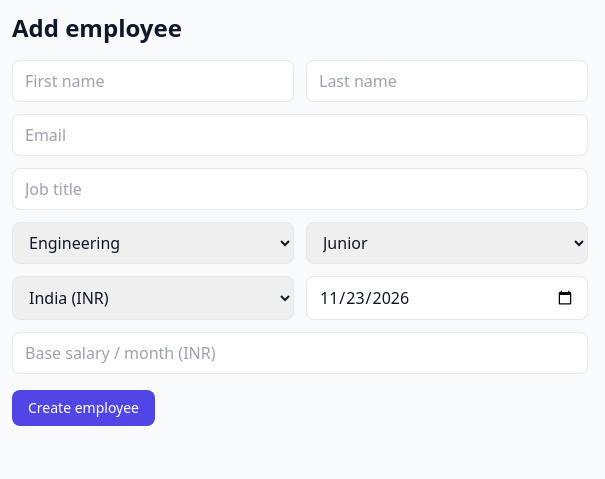
Test: AddEmployee page › requires first name, last name and job title
This screenshot has width=605, height=479.
Click the button "Create employee" at point(84, 408), box top-left (12, 390), bottom-right (155, 426)
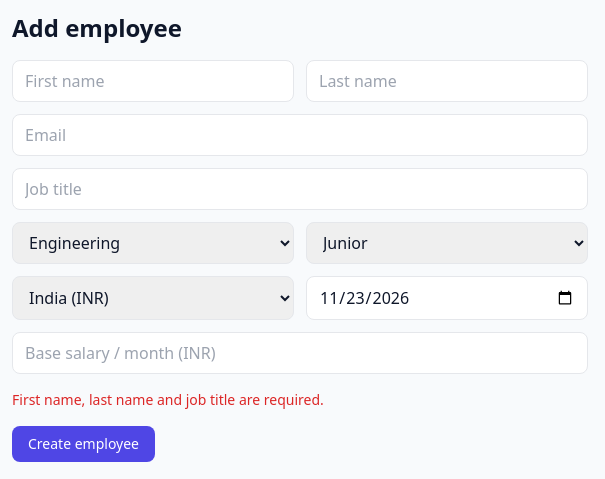
Expected: the text "First name, last name and job title are required." is shown, top-left (12, 390), bottom-right (324, 409)
